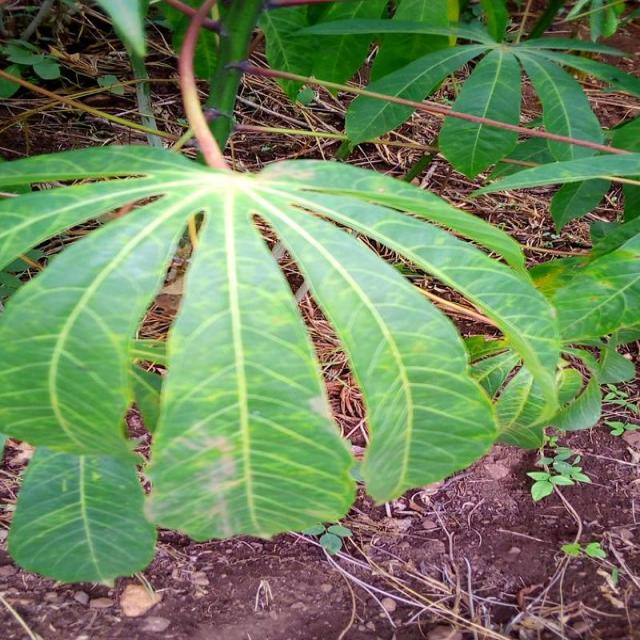cassava leaf: (143, 181, 358, 543), (6, 442, 158, 588)
